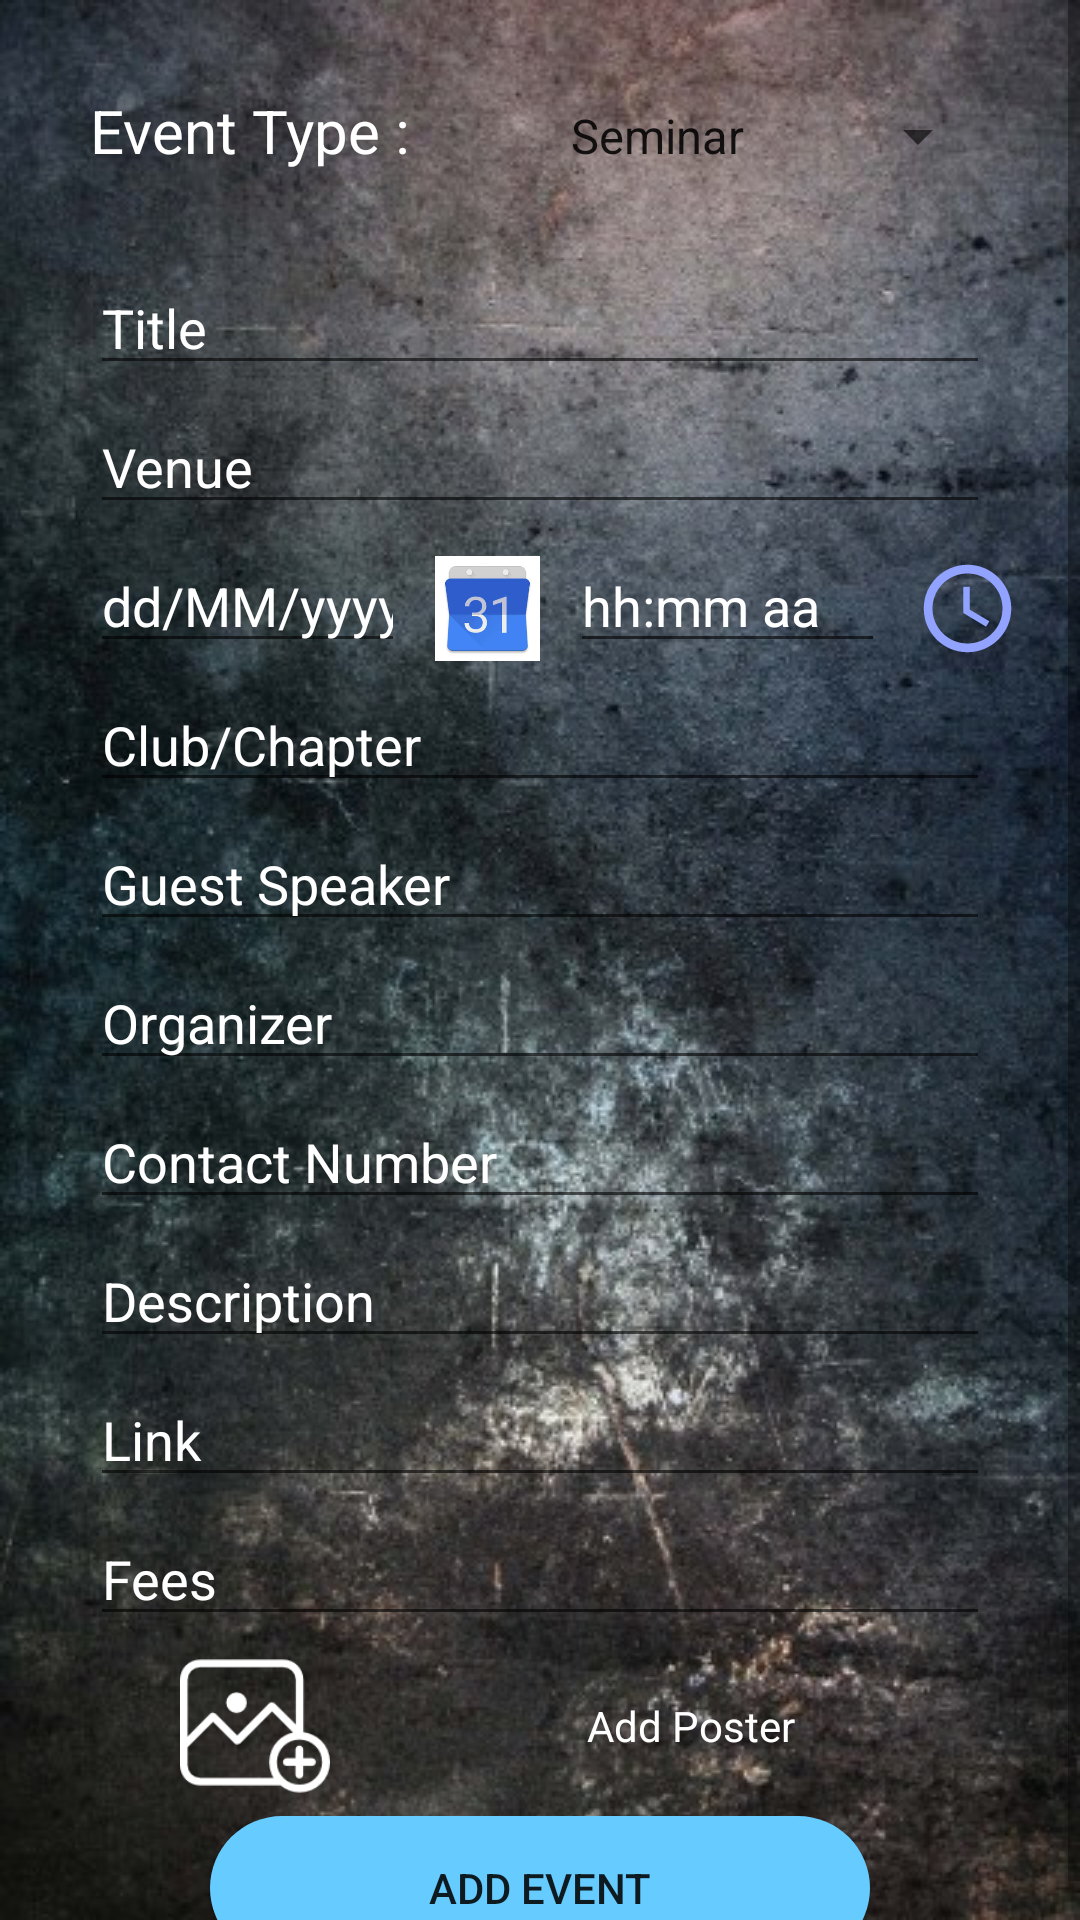

Icons on this 1080x1920 Android screen, each with its box as (x1, y1, x2, y2):
Time: (915, 539, 1020, 678)
